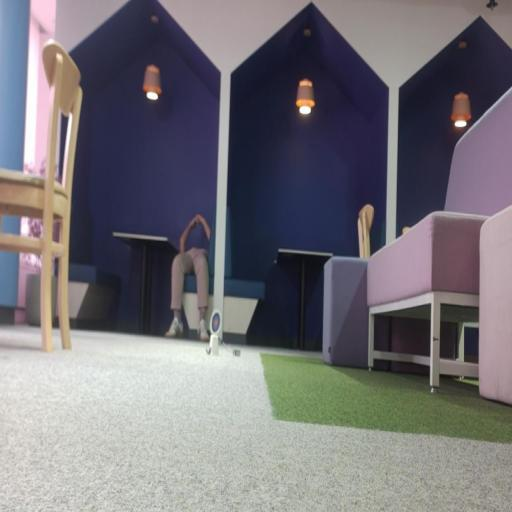target: (210, 309, 221, 336)
